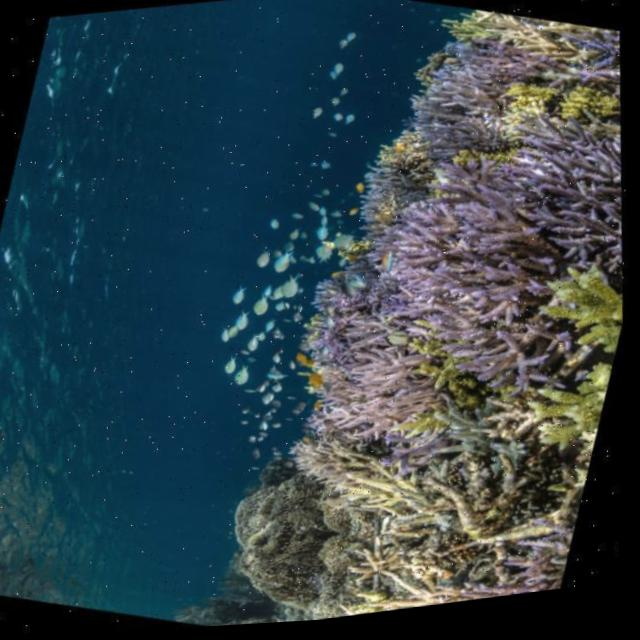Healthy Coral: (211, 0, 640, 629)
